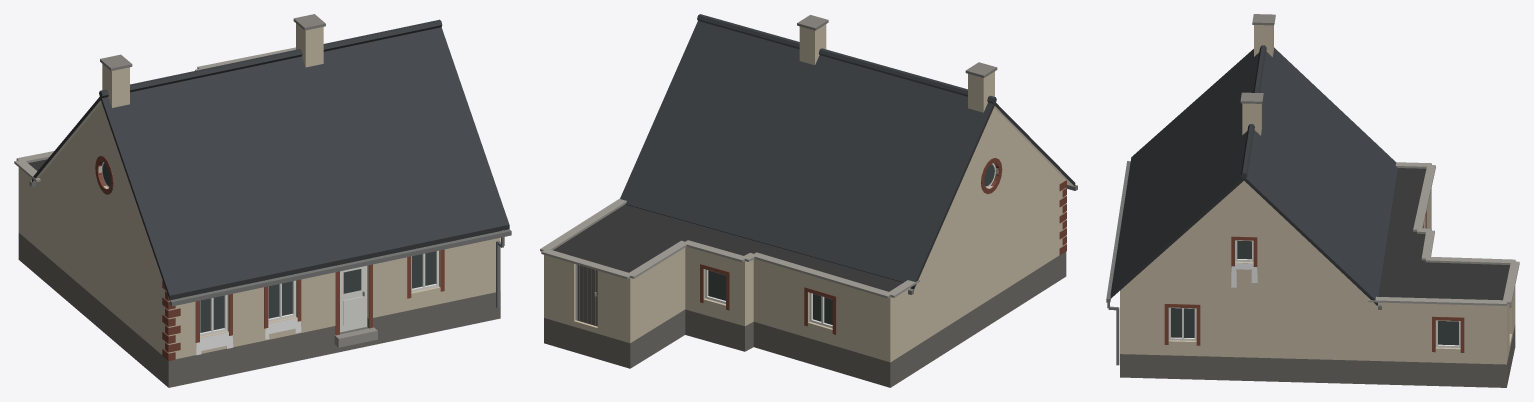
Rendered from vh_cottage.glb.
3 views of the same model, side by side, from view 1: azimuth 30°, elevation 25°; view 2: azimuth 150°, elevation 25°; view 3: azimuth 270°, elevation 25° (orthographic). The views are drawn at different scales.
Visible parts, largest first — view 1: vh_roof, vh_render, vh_trim, vh_frames_small, vh_stone, vh_glass, vh_brick, vh_streaks_small; view 2: vh_roof, vh_render, vh_trim, vh_stone, vh_glass, vh_frames_small, vh_brick; view 3: vh_render, vh_roof, vh_stone, vh_trim, vh_frames_small, vh_glass.
Part boxes in pixels (<box>): vh_roof: <box>99,19,509,295</box>; vh_render: <box>18,23,500,359</box>; vh_trim: <box>18,95,509,387</box>; vh_frames_small: <box>29,162,511,336</box>; vh_stone: <box>14,14,444,347</box>; vh_glass: <box>102,163,435,332</box>; vh_brick: <box>95,155,180,360</box>; vh_streaks_small: <box>196,318,301,355</box>; vh_roof: <box>620,14,996,282</box>; vh_render: <box>544,24,1065,362</box>; vh_trim: <box>544,102,1075,387</box>; vh_stone: <box>540,15,997,334</box>; vh_glass: <box>708,164,994,324</box>; vh_frames_small: <box>575,163,1077,328</box>; vh_brick: <box>981,158,1066,255</box>; vh_render: <box>1120,25,1515,364</box>; vh_roof: <box>1110,45,1397,299</box>; vh_stone: <box>1164,14,1519,352</box>; vh_trim: <box>1110,169,1515,387</box>; vh_frames_small: <box>1106,161,1460,365</box>; vh_glass: <box>1171,240,1458,345</box>.
Bounding box in the file's own units: 11.26 × 8.18 × 13.2.
